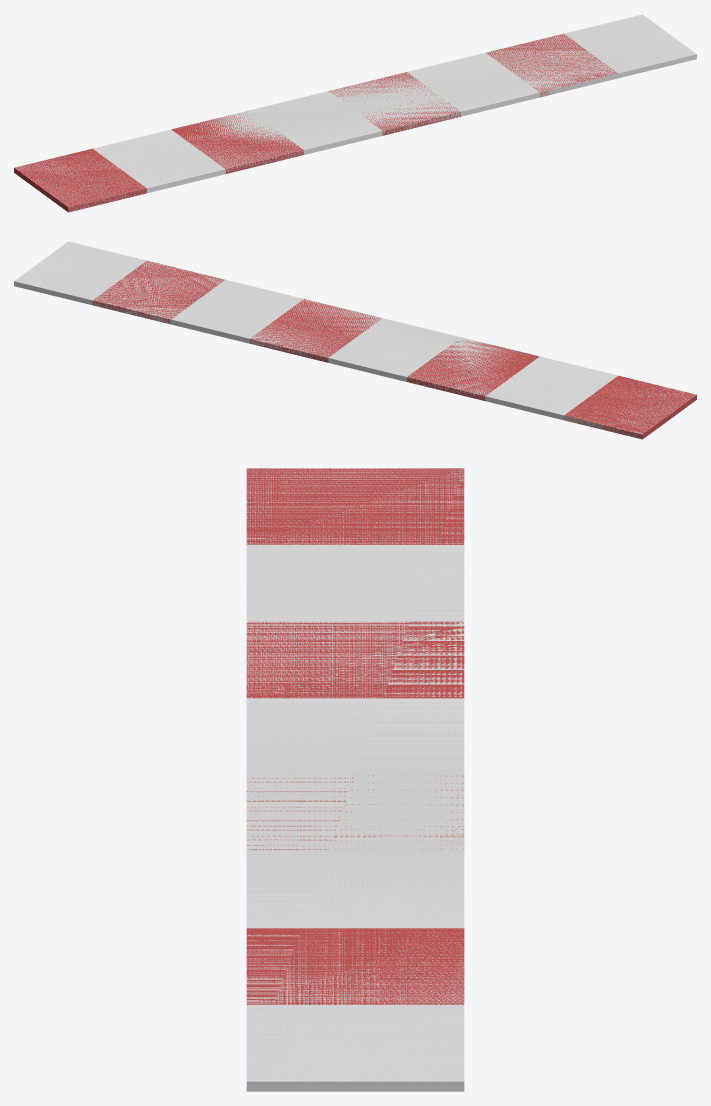
File: Kerb_Flat_4m.glb
3 views of the same model, one above another, from view 1: azimuth 30°, elevation 25°; view 2: azimuth 150°, elevation 25°; view 3: azimuth 270°, elevation 25° (orthographic). The views are drawn at different scales.
Parts seen in each view (by area): view 1: Kerb_Flat_4m_LOD0, Kerb_Flat_4m_COL; view 2: Kerb_Flat_4m_LOD0, Kerb_Flat_4m_COL; view 3: Kerb_Flat_4m_LOD0, Kerb_Flat_4m_COL.
Boxes of the visible parts, left/top/right/bottom form: Kerb_Flat_4m_LOD0: left=14, top=14, right=696, bottom=212; Kerb_Flat_4m_COL: left=16, top=15, right=696, bottom=211; Kerb_Flat_4m_LOD0: left=14, top=241, right=696, bottom=439; Kerb_Flat_4m_COL: left=14, top=241, right=695, bottom=439; Kerb_Flat_4m_LOD0: left=246, top=468, right=464, bottom=1091; Kerb_Flat_4m_COL: left=246, top=468, right=464, bottom=1091.
Size of what is drawn, in the model's own units: 4 by 0.03 by 0.6.
